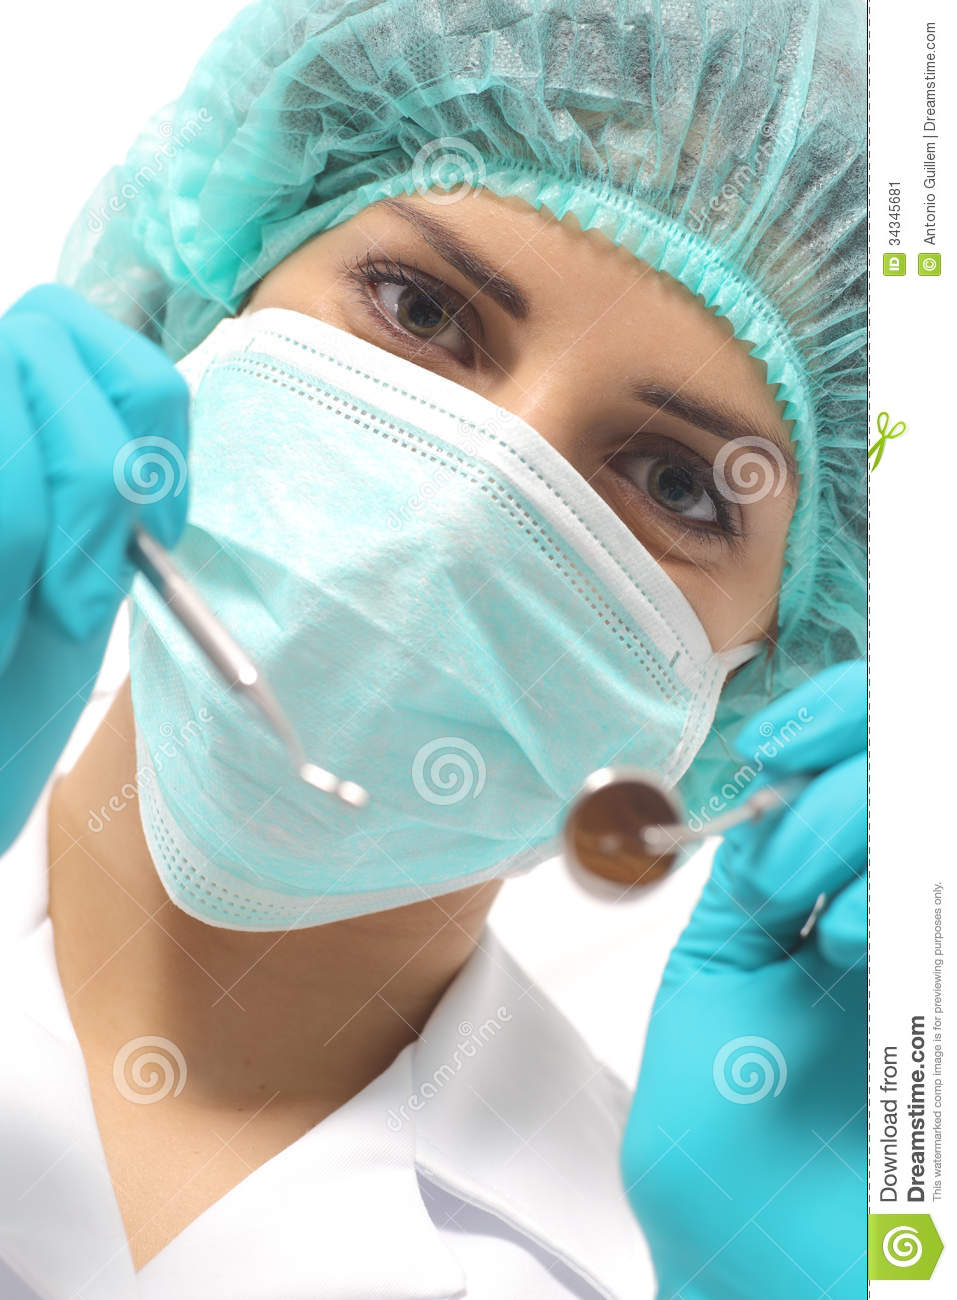mask: (124, 345, 732, 957)
